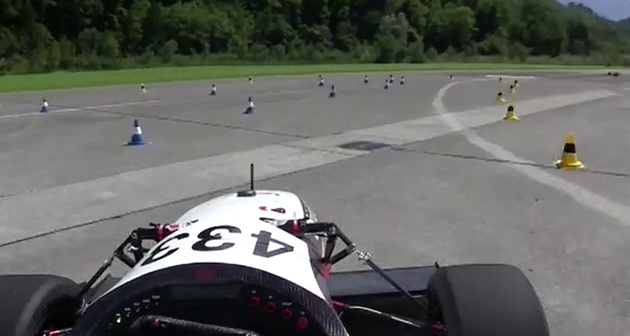Cone: (553, 129, 587, 170), (126, 117, 148, 145), (503, 98, 521, 121), (243, 96, 258, 115), (40, 96, 53, 114)
